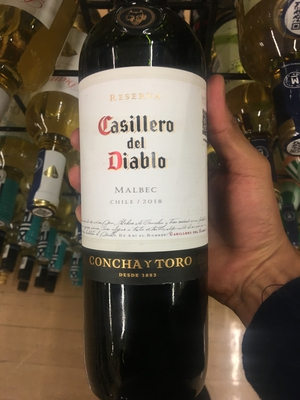casillero del diablo malbec: (65, 23, 229, 400)
